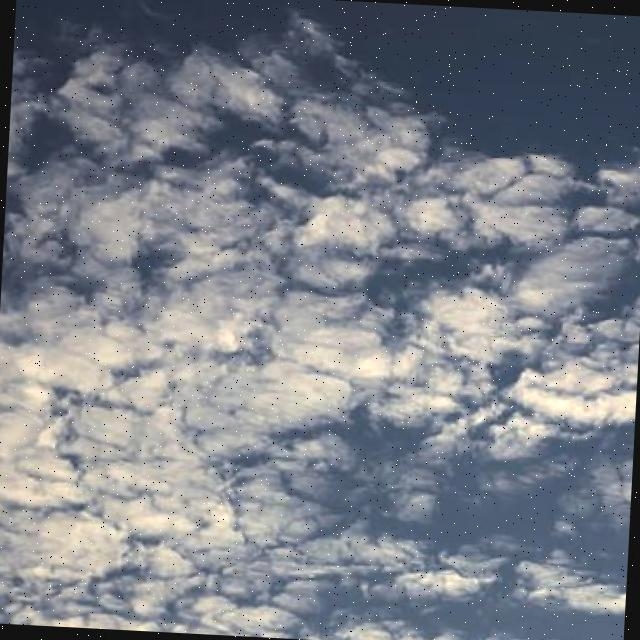Ac: (1, 1, 640, 637)
